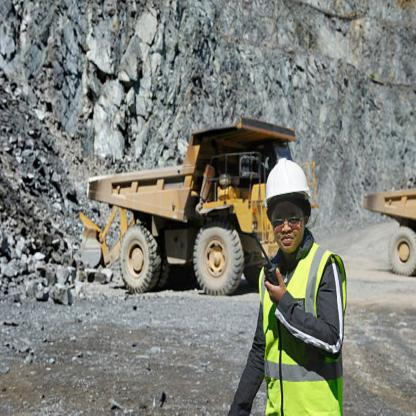dump_truck: (86, 107, 310, 314), (357, 166, 416, 279)
person: (250, 156, 346, 416)
